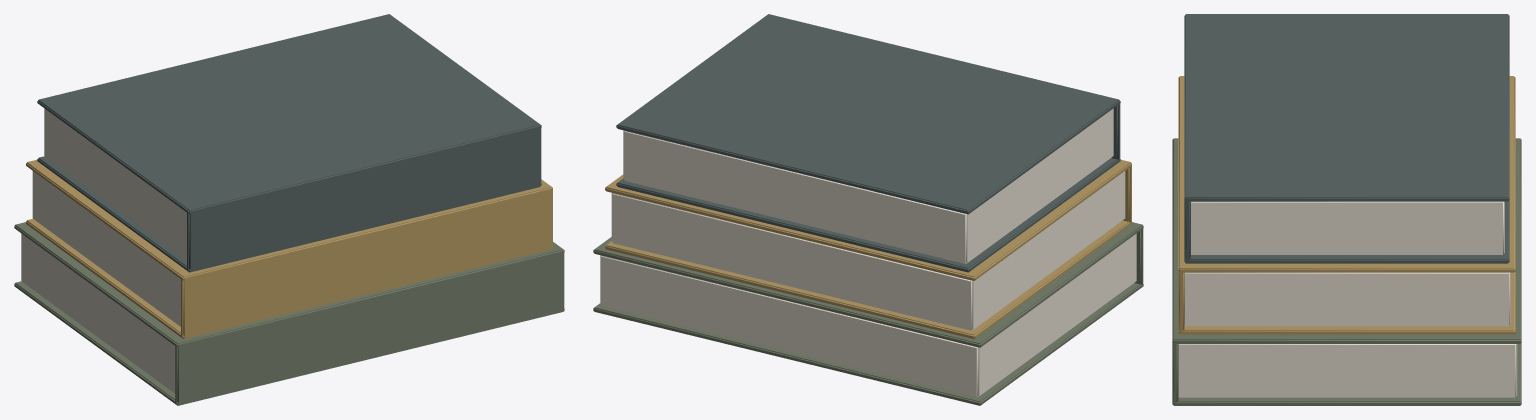
Rendered from modern.book_stack.gltf.
The picture shows the model from 3 angles, left to right: view 1: azimuth 30°, elevation 25°; view 2: azimuth 150°, elevation 25°; view 3: azimuth 270°, elevation 25°; orthographic projection. The views are drawn at different scales.
Visible parts, largest first — view 1: modern.book_stack.pages; view 2: modern.book_stack.pages; view 3: modern.book_stack.pages.
Part boxes in pixels (<box>): modern.book_stack.pages: <box>14,14,564,405</box>; modern.book_stack.pages: <box>593,14,1143,405</box>; modern.book_stack.pages: <box>1172,14,1521,405</box>.
Size of the model in its own units: 0.26 by 0.12 by 0.19.
